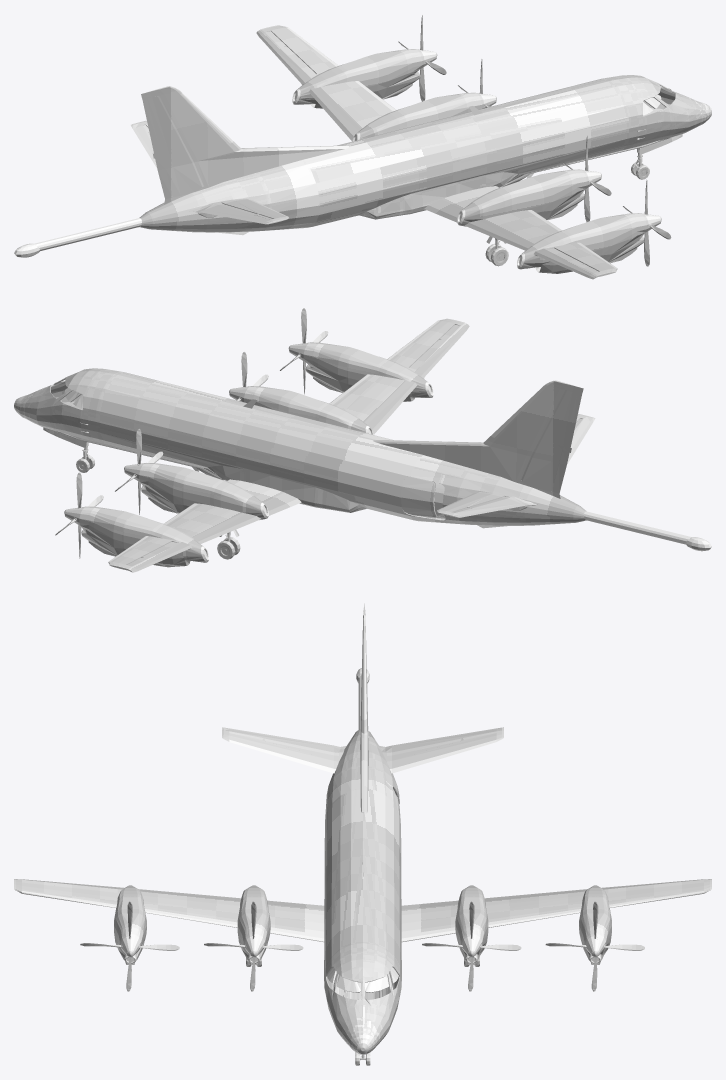
The picture shows the model from 3 angles, top to bottom: view 1: azimuth 30°, elevation 25°; view 2: azimuth 150°, elevation 25°; view 3: azimuth 270°, elevation 25°; orthographic projection. The views are drawn at different scales.
Visible parts, largest first — view 1: obj1, obj4 (×3), obj3, obj17, obj57, obj42 (×3), obj62, obj60, cylinder, obj64, obj43, obj61 (+1 smaller); view 2: obj1, obj4 (×3), obj3, obj17, obj57, obj42 (×3), obj71, obj64, obj61, cylinder, obj62, obj18 (+3 smaller); view 3: obj1, obj3, obj4 (×3), obj18, obj43, obj17, obj55, obj56, obj30.
Boxes of the visible parts, x1,y1,x2,y2 form: obj1: (139,75,711,232); obj4 (×3): (292,49,648,273); obj3: (256,25,617,279); obj17: (141,86,350,204); obj57: (142,95,203,197); obj42 (×3): (398,15,671,266); obj62: (424,199,537,253); obj60: (259,31,316,84); cylinder: (35,218,141,250); obj64: (303,81,361,141); obj43: (189,198,288,224); obj61: (534,248,598,277); obj1: (14,368,586,525); obj4 (×3): (77,342,433,567); obj3: (108,318,469,572); obj17: (373,380,583,498); obj57: (521,390,581,491); obj42 (×3): (55,308,328,558); obj71: (395,476,436,518); obj64: (188,492,301,546); obj61: (409,324,466,377); cylinder: (584,511,690,544); obj62: (364,374,422,434); obj18: (437,492,537,517); obj1: (324,729,401,1054); obj3: (14,879,711,942); obj4 (×3): (114,885,611,964); obj18: (379,727,503,773); obj43: (222,727,346,773); obj17: (360,603,368,814); obj55: (382,728,496,755); obj56: (229,728,343,755); obj30: (327,967,398,992).
Bounding box in the file's own units: 370 × 104 × 310.
7 materials, 5 textured.
